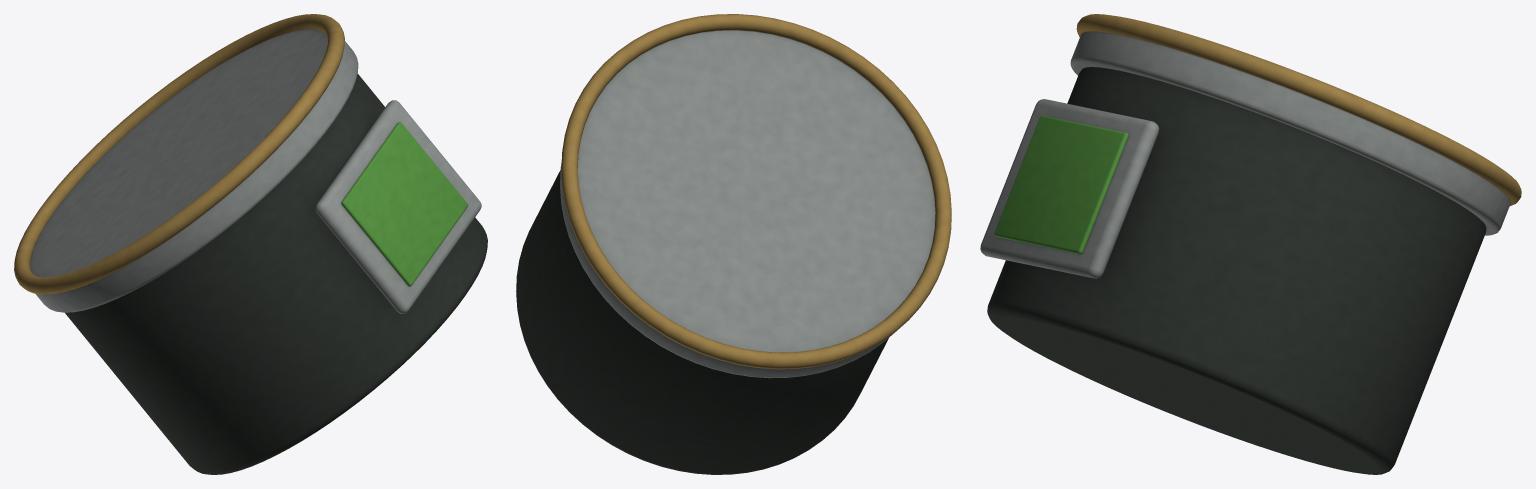
The picture shows the model from 3 angles, left to right: view 1: azimuth 30°, elevation 25°; view 2: azimuth 150°, elevation 25°; view 3: azimuth 270°, elevation 25°; orthographic projection. The views are drawn at different scales.
Visible parts, largest first — view 1: Closed sample vessel; view 2: Closed sample vessel; view 3: Closed sample vessel.
Boxes of the visible parts, box(x1,y1,x2,y2) form: Closed sample vessel: box(14, 14, 487, 474); Closed sample vessel: box(516, 14, 951, 474); Closed sample vessel: box(980, 14, 1521, 474).
Size of the model in its own units: 1.1 by 1.05 by 1.09.
1 material, 1 textured.
